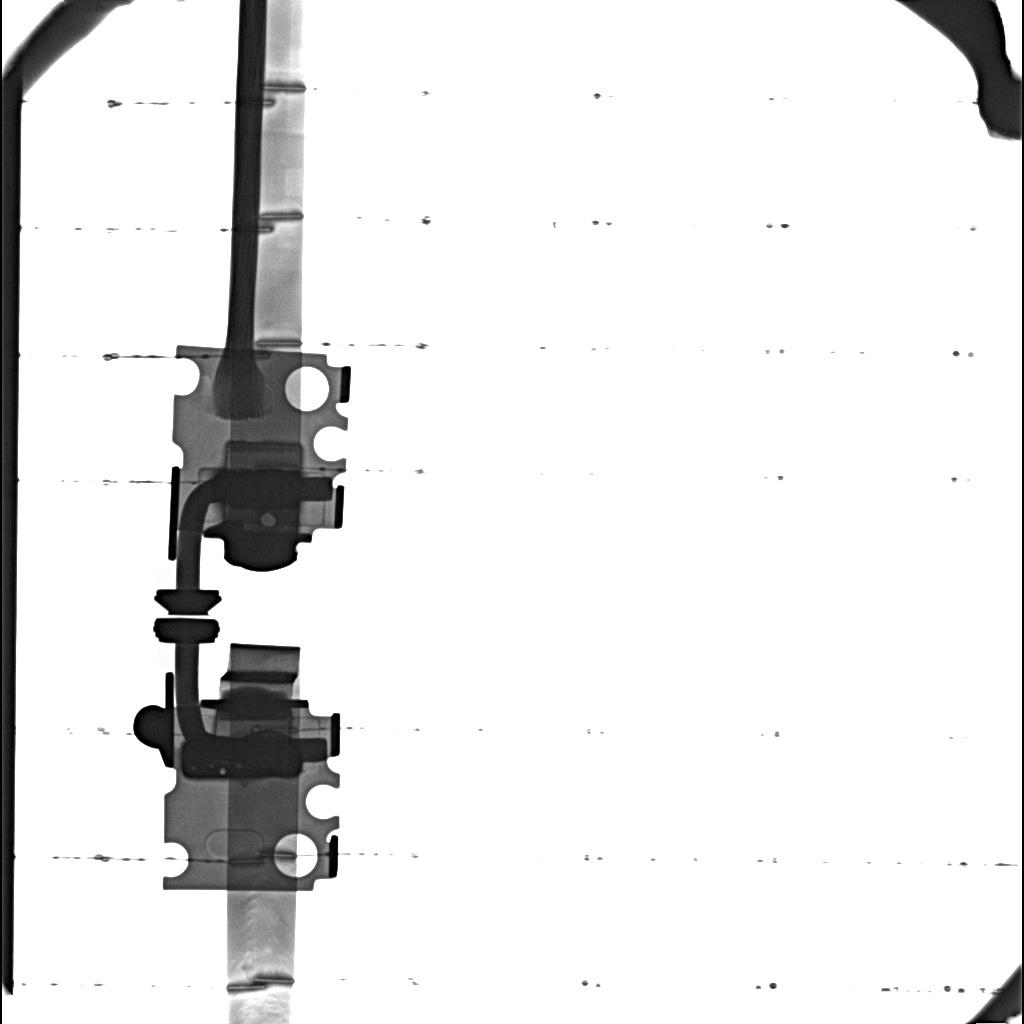defect: (183, 731, 302, 779), (216, 470, 299, 509), (224, 441, 302, 468), (260, 512, 276, 527)
